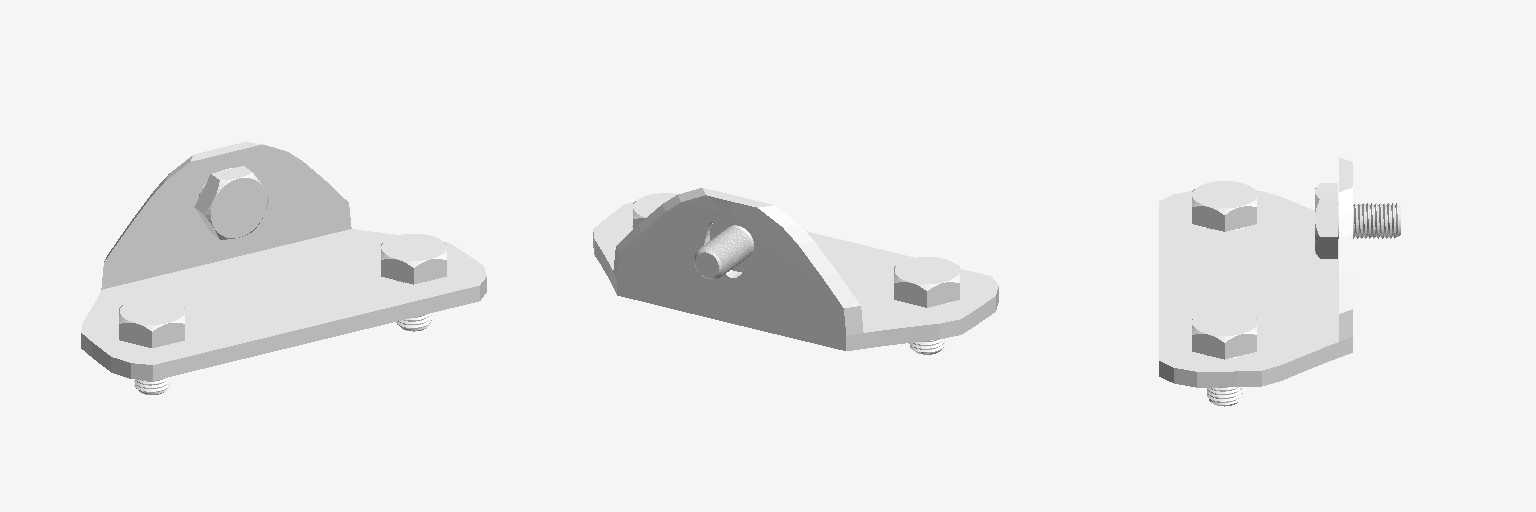
Rendered from Support.obj.
3 renders of one model, left to right at view 1: azimuth 30°, elevation 25°; view 2: azimuth 150°, elevation 25°; view 3: azimuth 270°, elevation 25°, orthographic.
Parts seen in each view (by area): view 1: Cube, Bolt; view 2: Cube, Bolt; view 3: Cube, Bolt.
Part boxes in pixels (bbox=[...]): Cube: bbox=[81, 142, 486, 380]; Bolt: bbox=[119, 166, 446, 394]; Cube: bbox=[593, 188, 998, 350]; Bolt: bbox=[633, 193, 959, 354]; Cube: bbox=[1159, 157, 1352, 387]; Bolt: bbox=[1192, 181, 1400, 406].
Size of the model in its own units: 360 by 150 by 203.